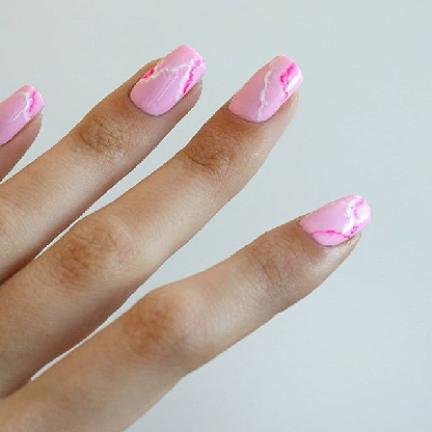Nail: (130, 45, 207, 115), (229, 54, 304, 123), (299, 194, 373, 246), (0, 83, 45, 146)
